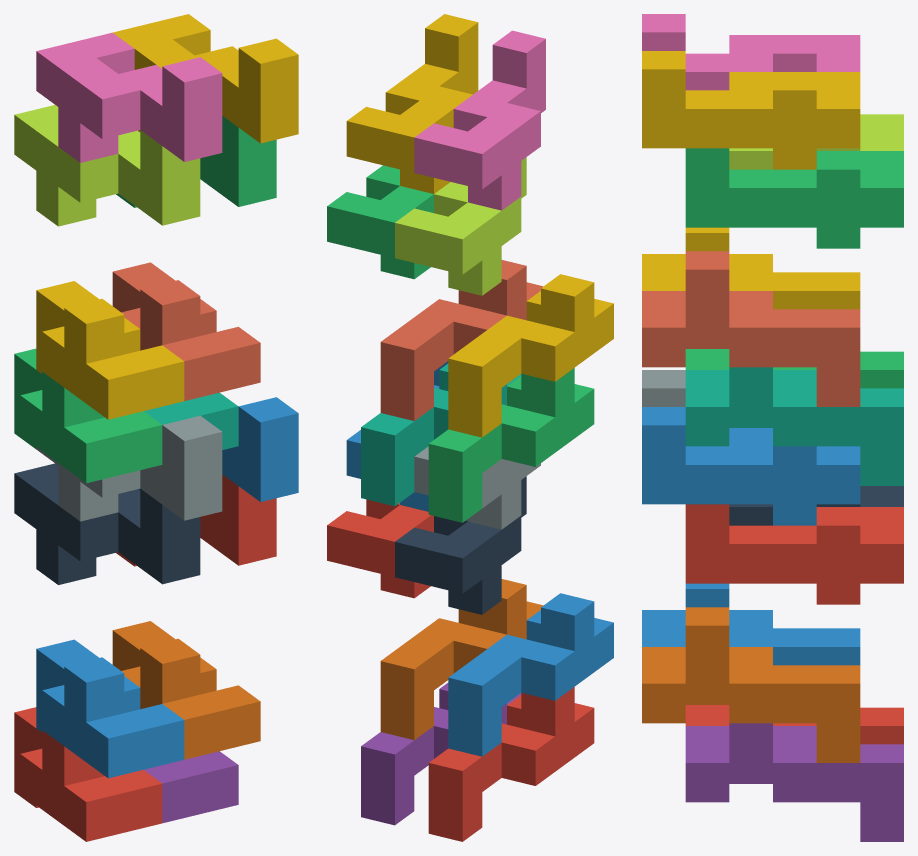
The model's file is tiling.obj.
3 views of the same model, side by side, from view 1: azimuth 30°, elevation 25°; view 2: azimuth 150°, elevation 25°; view 3: azimuth 270°, elevation 25° (orthographic). The views are drawn at different scales.
Parts seen in each view (by area): view 1: copy_2_domain_4, copy_1_domain_2, copy_1_domain_4, copy_2_domain_3, copy_2_domain_1, copy_2_domain_8, copy_1_domain_8, copy_1_domain_6, copy_1_domain_1, copy_1_domain_3, copy_2_domain_2, copy_2_domain_6 (+4 smaller); view 2: copy_2_domain_4, copy_1_domain_2, copy_1_domain_4, copy_1_domain_3, copy_1_domain_1, copy_2_domain_8, copy_1_domain_6, copy_1_domain_8, copy_2_domain_3, copy_2_domain_1, copy_1_domain_7, copy_1_domain_5 (+4 smaller); view 3: copy_1_domain_6, copy_1_domain_8, copy_2_domain_8, copy_2_domain_5, copy_2_domain_7, copy_2_domain_6, copy_1_domain_5, copy_1_domain_7, copy_2_domain_4, copy_1_domain_2, copy_1_domain_4, copy_1_domain_1 (+4 smaller).
Part boxes in pixels (bbox=[...]): copy_2_domain_4: bbox=[36, 32, 222, 162]; copy_1_domain_2: bbox=[36, 639, 184, 778]; copy_1_domain_4: bbox=[36, 281, 184, 419]; copy_2_domain_3: bbox=[14, 105, 200, 226]; copy_2_domain_1: bbox=[14, 463, 200, 584]; copy_2_domain_8: bbox=[113, 14, 298, 143]; copy_1_domain_8: bbox=[112, 262, 260, 400]; copy_1_domain_6: bbox=[112, 621, 260, 759]; copy_1_domain_1: bbox=[14, 707, 162, 841]; copy_1_domain_3: bbox=[14, 348, 162, 483]; copy_2_domain_2: bbox=[36, 415, 222, 521]; copy_2_domain_6: bbox=[138, 397, 298, 501]; copy_2_domain_4: bbox=[414, 30, 545, 210]; copy_1_domain_2: bbox=[448, 593, 613, 756]; copy_1_domain_4: bbox=[448, 274, 613, 437]; copy_1_domain_3: bbox=[428, 368, 594, 522]; copy_1_domain_1: bbox=[428, 687, 594, 841]; copy_2_domain_8: bbox=[346, 14, 478, 193]; copy_1_domain_6: bbox=[380, 579, 543, 740]; copy_1_domain_8: bbox=[380, 260, 542, 420]; copy_2_domain_3: bbox=[395, 157, 526, 295]; copy_2_domain_1: bbox=[395, 476, 526, 614]; copy_1_domain_7: bbox=[361, 363, 521, 506]; copy_1_domain_5: bbox=[361, 683, 521, 825]; copy_1_domain_6: bbox=[642, 607, 860, 762]; copy_1_domain_8: bbox=[642, 251, 860, 406]; copy_2_domain_8: bbox=[642, 51, 860, 169]; copy_2_domain_5: bbox=[685, 504, 903, 604]; copy_2_domain_7: bbox=[685, 148, 903, 248]; copy_2_domain_6: bbox=[642, 407, 860, 525]; copy_1_domain_5: bbox=[685, 723, 903, 841]; copy_1_domain_7: bbox=[685, 367, 903, 485]; copy_2_domain_4: bbox=[642, 14, 860, 90]; copy_1_domain_2: bbox=[642, 583, 860, 665]; copy_1_domain_4: bbox=[642, 227, 860, 309]; copy_1_domain_1: bbox=[685, 705, 903, 744].
Bounding box in the file's own units: 5 × 20 × 6.
